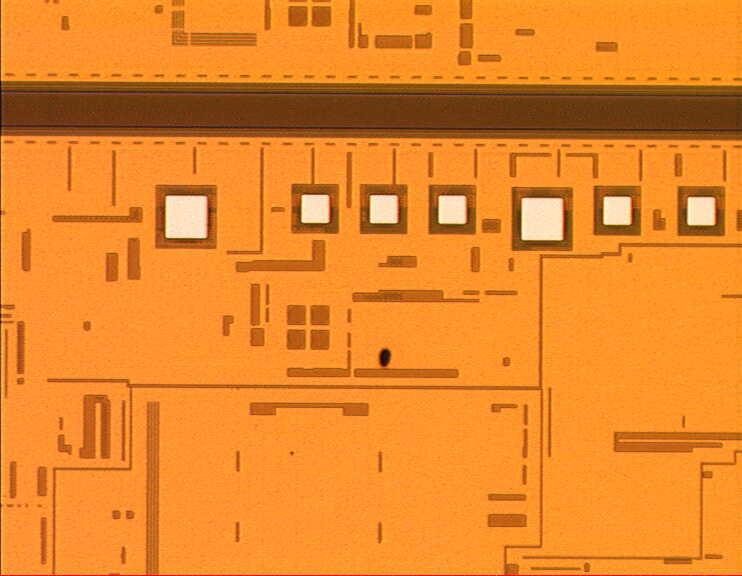PIQ PARTICLE: (368, 342, 400, 374)
